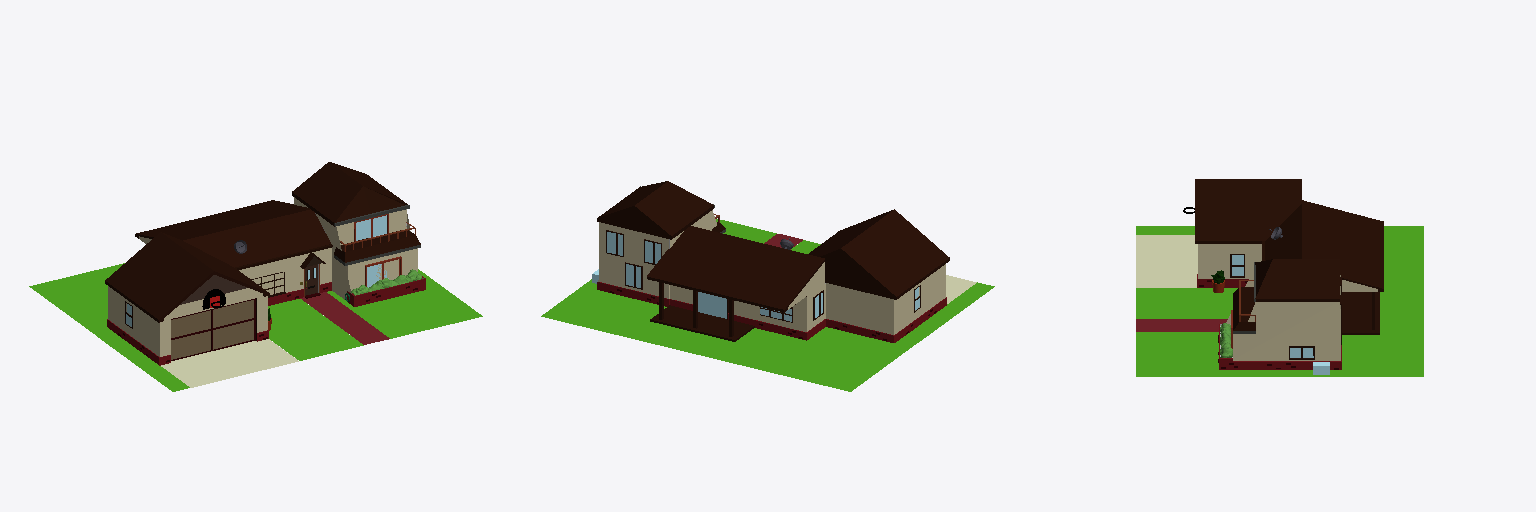
The model's file is SmithHouse.obj.
3 views of the same model, side by side, from view 1: azimuth 30°, elevation 25°; view 2: azimuth 150°, elevation 25°; view 3: azimuth 270°, elevation 25° (orthographic).
Visible parts, largest first — view 1: Cube.010, Plane.020, Cube.034, Cube.005, Plane.021, Plane.024, Cube.004, Plane.010, Plane.003, Plane.018, Cube.006, Cube.012 (+7 smaller); view 2: Plane.024, Cube.010, Cube.034, Cube.006, Plane.020, Cube.005, Plane.010, Cube.044, Plane.018, Plane.028, Plane.008, Cube.059 (+2 smaller); view 3: Plane.020, Cube.010, Cube.034, Plane.010, Plane.024, Plane.018, Cube.005, Plane.021, Cube.011, Cube.044, Plane.022, Cube.060 (+1 smaller).
Part boxes in pixels (left/top/right/bottom): Cube.010: left=136, top=200, right=330, bottom=267; Plane.020: left=98, top=291, right=427, bottom=391; Cube.034: left=105, top=232, right=269, bottom=322; Cube.005: left=292, top=162, right=407, bottom=226; Plane.021: left=161, top=339, right=298, bottom=387; Plane.024: left=29, top=263, right=124, bottom=339; Cube.004: left=171, top=300, right=253, bottom=359; Plane.010: left=294, top=197, right=417, bottom=299; Plane.003: left=239, top=248, right=331, bottom=294; Plane.018: left=403, top=269, right=482, bottom=325; Cube.006: left=108, top=286, right=159, bottom=356; Cube.012: left=160, top=288, right=267, bottom=356; Plane.024: left=565, top=294, right=923, bottom=391; Cube.010: left=647, top=226, right=824, bottom=311; Cube.034: left=809, top=209, right=949, bottom=299; Cube.006: left=826, top=264, right=945, bottom=334; Plane.020: left=598, top=224, right=994, bottom=359; Cube.005: left=597, top=181, right=713, bottom=239; Plane.010: left=598, top=210, right=716, bottom=298; Cube.044: left=650, top=305, right=754, bottom=341; Plane.018: left=541, top=220, right=720, bottom=325; Plane.028: left=767, top=283, right=825, bottom=331; Plane.008: left=670, top=285, right=766, bottom=322; Cube.059: left=698, top=292, right=728, bottom=319; Plane.020: left=1136, top=226, right=1419, bottom=350; Cube.010: left=1265, top=200, right=1383, bottom=291; Cube.034: left=1195, top=179, right=1301, bottom=243; Plane.010: left=1226, top=271, right=1340, bottom=360; Plane.024: left=1342, top=226, right=1423, bottom=358; Plane.018: left=1136, top=359, right=1423, bottom=376; Cube.005: left=1255, top=259, right=1339, bottom=301; Plane.021: left=1136, top=235, right=1197, bottom=287; Cube.011: left=1198, top=244, right=1261, bottom=278; Cube.044: left=1342, top=292, right=1379, bottom=334; Plane.022: left=1136, top=320, right=1226, bottom=330; Cube.060: left=1219, top=361, right=1328, bottom=369.
Bounding box in the file's own units: 62.09 × 18.05 × 50.07.